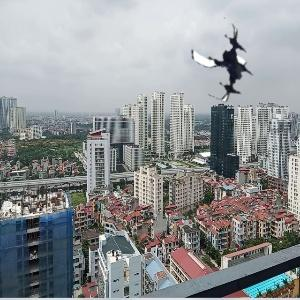drone: (182, 20, 264, 102)
